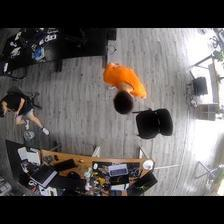normal: (1, 87, 53, 137), (102, 60, 147, 116)
